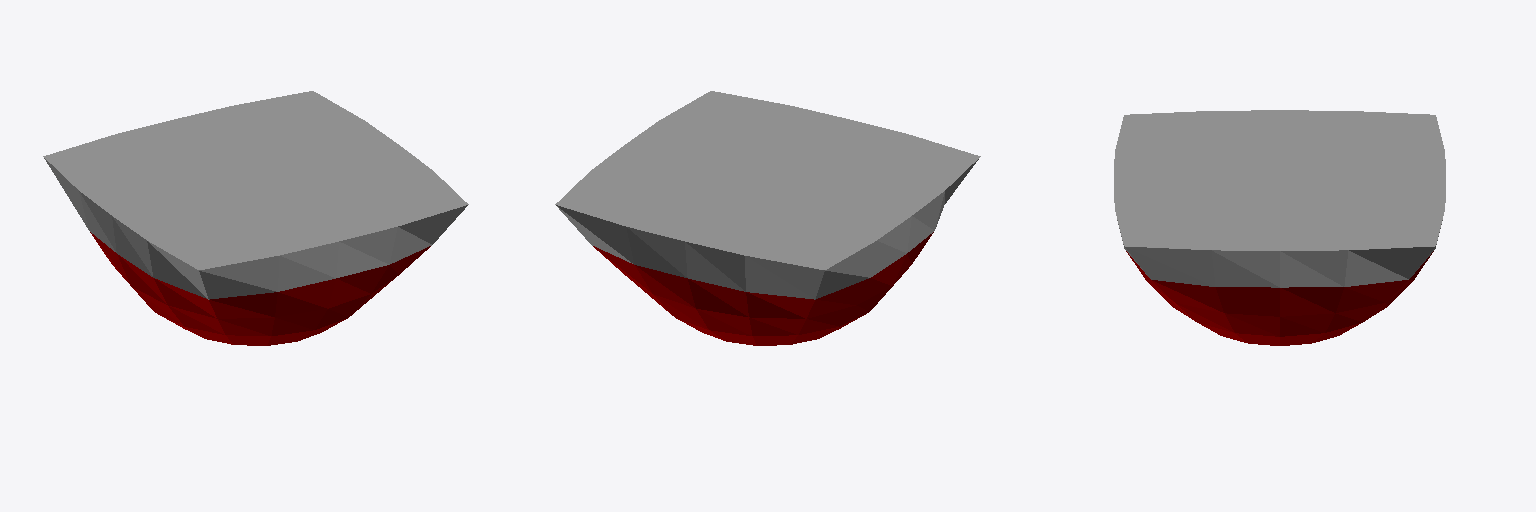
The model's file is Lvl1.obj.
The picture shows the model from 3 angles: view 1: azimuth 30°, elevation 25°; view 2: azimuth 150°, elevation 25°; view 3: azimuth 270°, elevation 25°; orthographic projection.
Parts seen in each view (by area): view 1: Land_Lvl1; view 2: Land_Lvl1; view 3: Land_Lvl1.
Part boxes in pixels (x1,y1,x2,y2): Land_Lvl1: (43, 91, 468, 345); Land_Lvl1: (555, 91, 980, 345); Land_Lvl1: (1114, 110, 1445, 345).
Size of the model in its own units: 2 by 1 by 2.